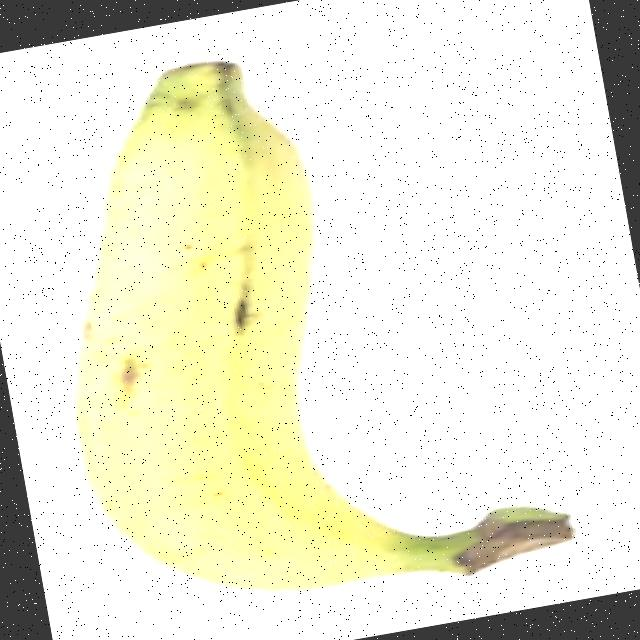banana: (3, 9, 580, 640)
